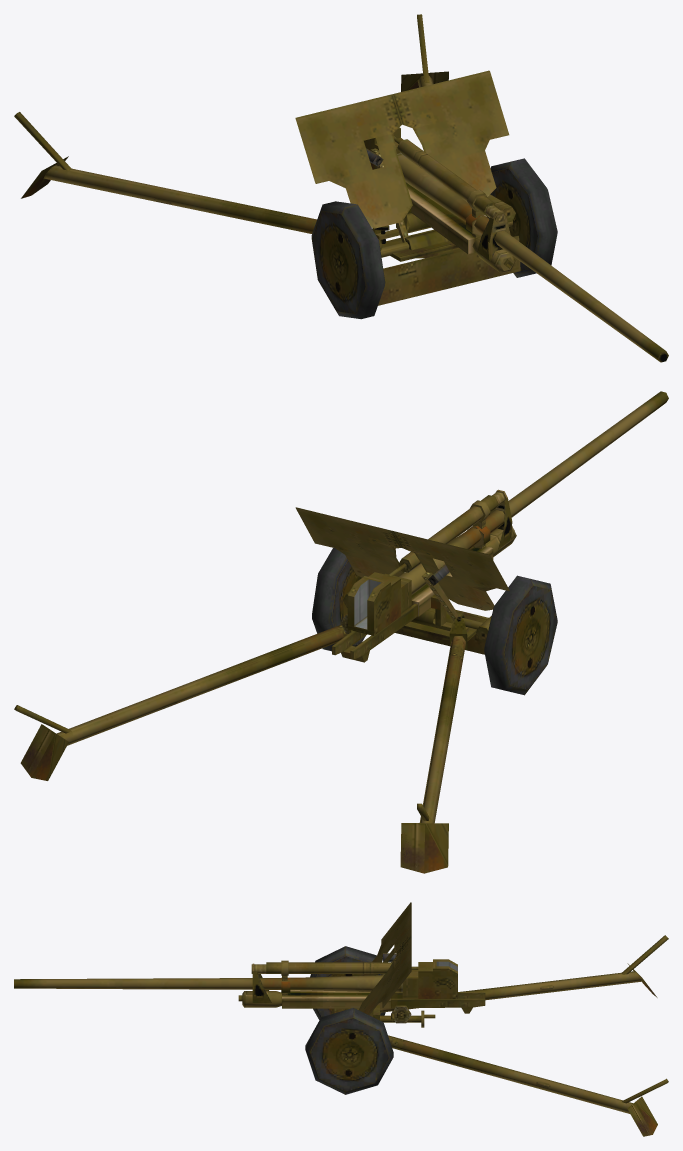
Rendered from RUSZiS2.dae.
3 renders of one model, top to bottom at view 1: azimuth 30°, elevation 25°; view 2: azimuth 150°, elevation 25°; view 3: azimuth 270°, elevation 25°, orthographic. The views are drawn at different scales.
Visible parts, largest first — view 1: carriage, wheels, sleeve, barrel; view 2: carriage, wheels, barrel, sleeve; view 3: carriage, wheels, barrel, sleeve.
Part boxes in pixels (box(x1,y1,x2,y2)): carriage: box(14, 14, 520, 305); wheels: box(311, 158, 557, 319); sleeve: box(396, 139, 515, 273); barrel: box(364, 127, 668, 362); carriage: box(14, 507, 509, 873); wheels: box(312, 548, 557, 695); barrel: box(347, 391, 668, 635); sleeve: box(332, 489, 516, 662); carriage: box(331, 902, 668, 1136); wheels: box(305, 946, 393, 1094); barrel: box(14, 959, 457, 998); sleeve: box(238, 960, 485, 1027).
Size of the model in its own units: 26.69 by 48.28 by 10.38.
